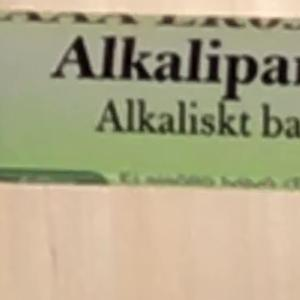keyword: (41, 26, 127, 90)
